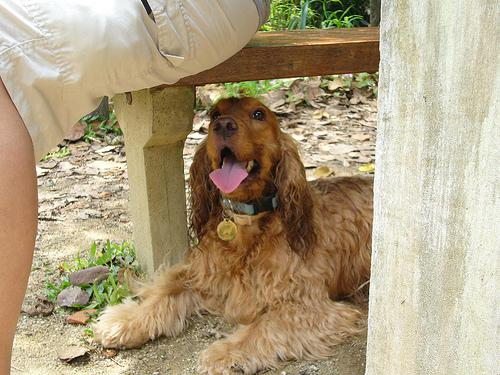dog-english_cocker_spaniel: (189, 96, 311, 243)
